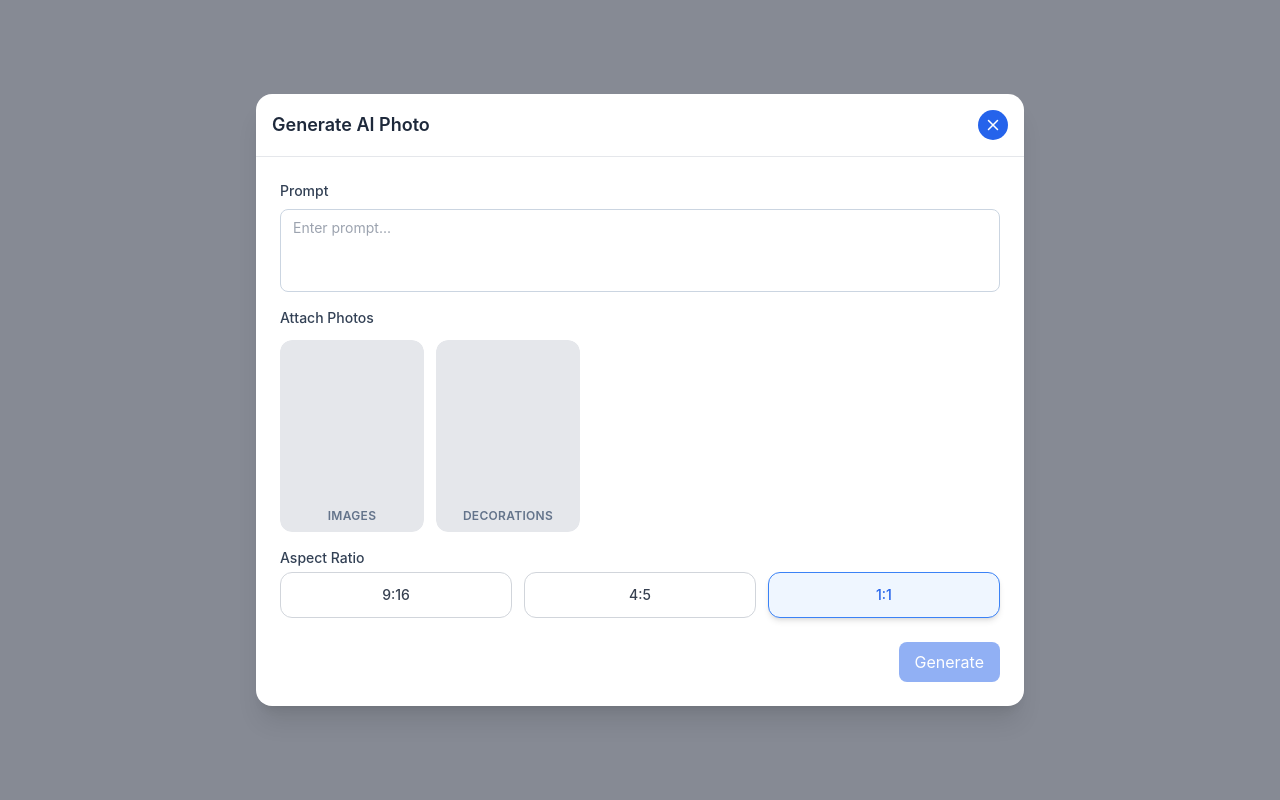
Scenario: CreateAiPhotoDlg › aspect ratio › changes selection when a different ratio is clicked
Click the radio button labelled "9:16" at (396, 595), box [280,572,512,618]
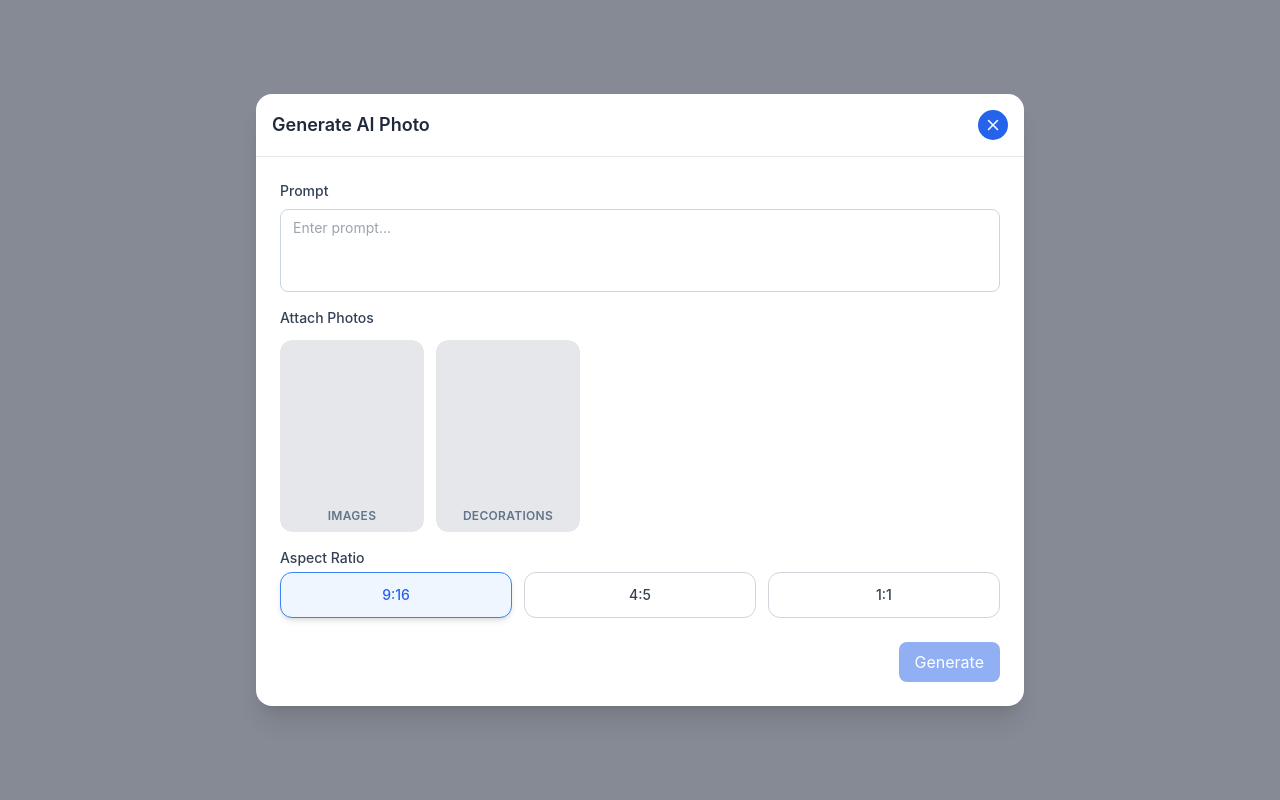
Result: the radio button labelled "9:16" is checked at [280,572,512,618]
Result: the radio button labelled "1:1" is not checked at [768,572,1000,618]
